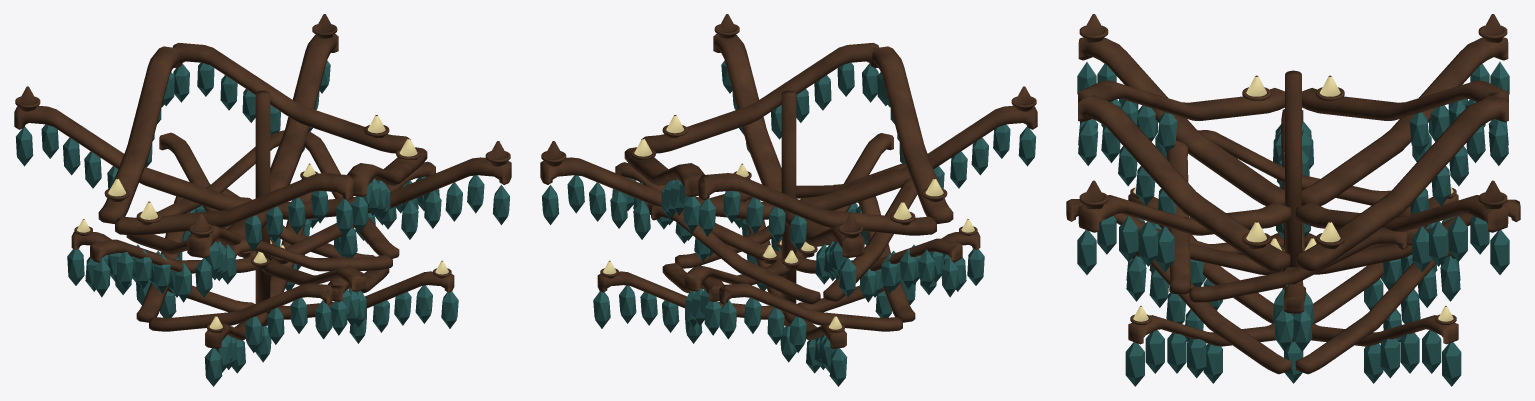
Rendered from lustra.fbx.
3 views of the same model, side by side, from view 1: azimuth 30°, elevation 25°; view 2: azimuth 150°, elevation 25°; view 3: azimuth 270°, elevation 25° (orthographic). The views are drawn at different scales.
Visible parts, largest first — view 1: luystra; view 2: luystra; view 3: luystra.
Part boxes in pixels (bbox=[...]): luystra: bbox=[14, 14, 511, 386]; luystra: bbox=[540, 14, 1037, 386]; luystra: bbox=[1066, 14, 1520, 386].
Size of the model in its own units: 40.22 by 29.99 by 39.88.
